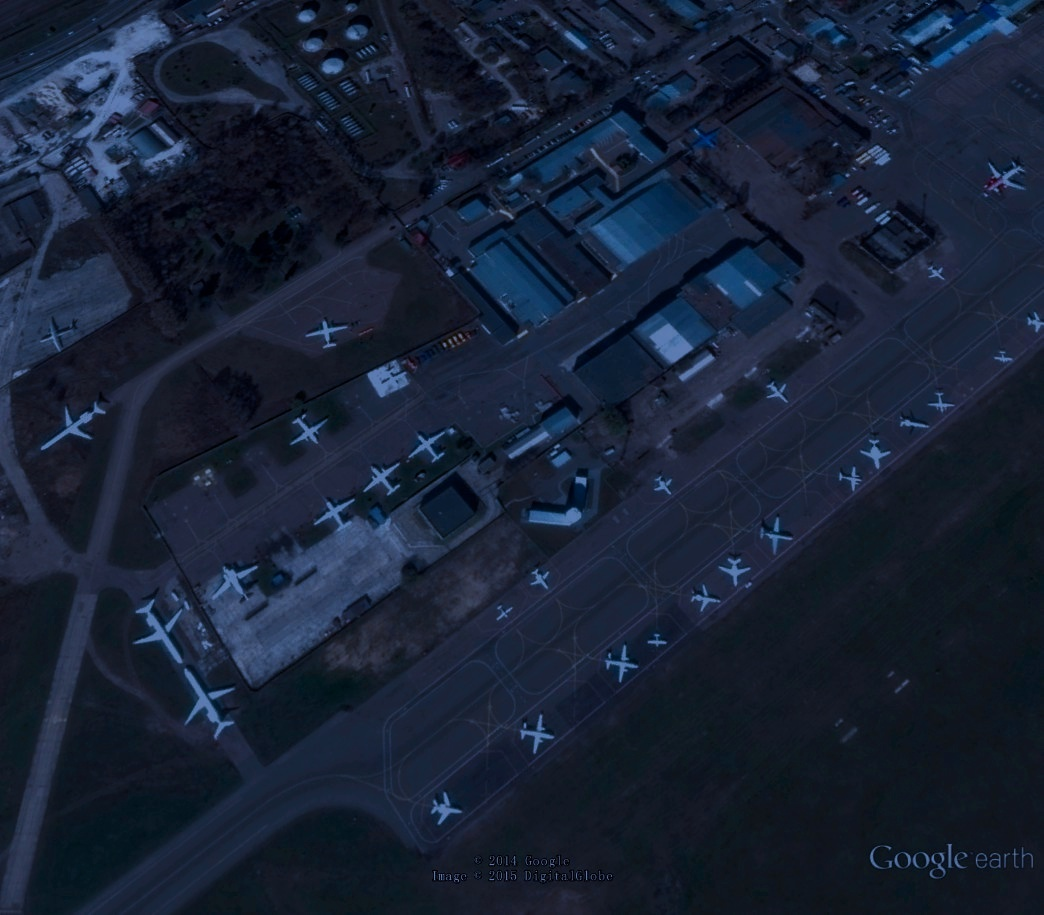aircraft: (177, 666, 243, 744), (36, 396, 117, 457), (127, 595, 193, 669), (207, 561, 267, 610), (978, 154, 1032, 205), (405, 424, 457, 468), (516, 706, 556, 762), (310, 493, 360, 537), (754, 511, 799, 559), (282, 409, 333, 451), (601, 639, 643, 690), (303, 315, 354, 355), (361, 459, 408, 501), (31, 316, 79, 357), (715, 552, 757, 591), (858, 433, 897, 475), (427, 787, 468, 826), (687, 579, 724, 618), (895, 409, 934, 441), (835, 463, 870, 498), (763, 375, 796, 411), (924, 385, 960, 417), (525, 565, 555, 595), (649, 472, 679, 501), (645, 628, 672, 654), (493, 600, 519, 625), (988, 346, 1015, 370), (924, 259, 948, 286), (1023, 307, 1042, 337)
